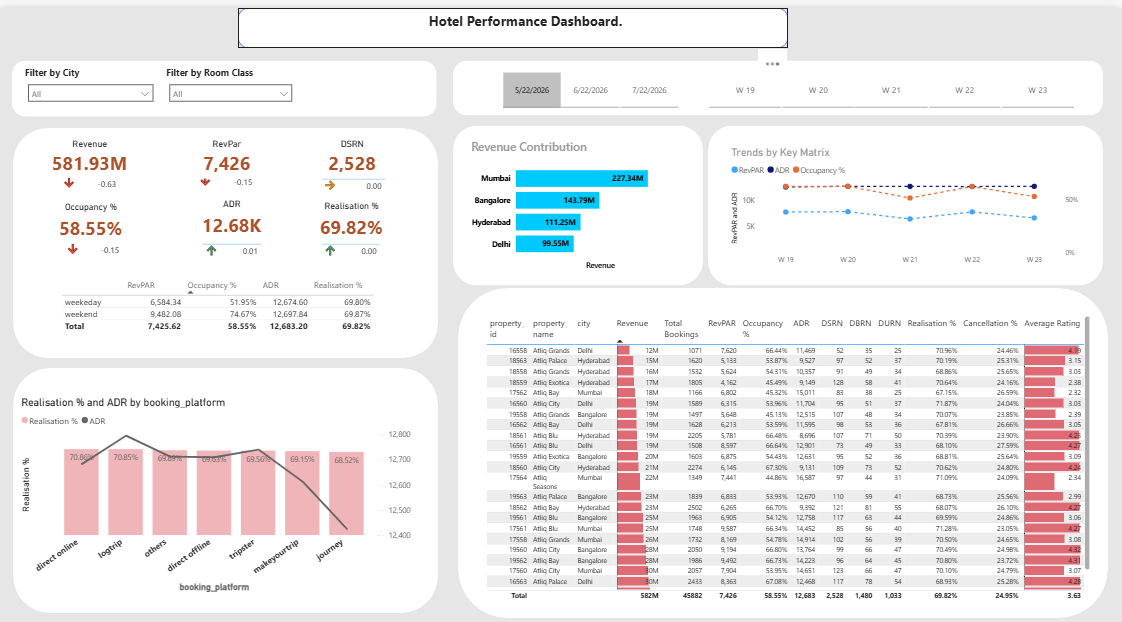

What the dashboard file says about the page in this screenshot:
{"tool":"powerbi","page":{"name":"Page 1","canvas":[1800,1100],"ordinal":0},"visuals":[{"type":"shape","box":[736,448,1040,528],"z":0},{"type":"shape","box":[24,576,680,392],"z":1000},{"type":"shape","box":[1136,187.3,632,256],"z":2000},{"type":"shape","box":[728,187.3,400,256],"z":3000},{"type":"shape","box":[24,192,680,368],"z":4000},{"type":"shape","box":[22.9,84.1,680,90],"z":5000},{"type":"tableEx","fields":{"Values":["dim_hotels.property_id","dim_hotels.property_name","dim_hotels.city","key_measures.Revenue","key_measures.Total Bookings","key_measures.RevPAR","key_measures.Occupancy %","key_measures.ADR","key_measures.DSRN","key_measures.DBRN","key_measures.DURN","key_measures.Realisation %"]},"box":[776,488,976,464],"z":6000},{"type":"slicer","title":"Filter by City","fields":{"Values":["dim_hotels.city"]},"box":[38.6,92.5,220,72.9],"z":7000},{"type":"slicer","title":"Filter by Room Class","fields":{"Values":["dim_rooms.room_class"]},"box":[264,92.9,216,72],"z":8000},{"type":"barChart","title":"Revenue Contribution","fields":{"Category":["dim_hotels.city"],"Y":["key_measures.Revenue"]},"box":[752,208,352,216],"z":9000},{"type":"tableEx","title":"Revenue","fields":{"Values":["key_measures.\"Revenue WoW change %"]},"box":[93.5,236.6,105,72.5],"z":10000},{"type":"card","title":"Revenue","fields":{"Values":["key_measures.Revenue"]},"box":[71,208,153.7,63.7],"z":11000},{"type":"tableEx","title":"Revenue","fields":{"Values":["key_measures.\"Revpar WoW change %"]},"box":[312.2,236.6,105,72.5],"z":12000},{"type":"card","title":"RevPar","fields":{"Values":["key_measures.RevPAR"]},"box":[290.8,208,152.5,65],"z":13000},{"type":"tableEx","title":"Revenue","fields":{"Values":["key_measures.\"DSRN WoW change %"]},"box":[512,240,112,80],"z":14000},{"type":"card","title":"DSRN","fields":{"Values":["key_measures.DSRN"]},"box":[489.4,208.4,153.7,64.7],"z":15000},{"type":"tableEx","title":"Revenue","fields":{"Values":["key_measures.\"Occupancy WoW change %"]},"box":[99.3,341.7,104.7,71.6],"z":16000},{"type":"card","title":"Occupancy %","fields":{"Values":["key_measures.Occupancy %"]},"box":[69.1,309.2,157.4,67.4],"z":17000},{"type":"tableEx","title":"Revenue","fields":{"Values":["key_measures.\"ADR WoW change %"]},"box":[512,344,104,72],"z":18000},{"type":"tableEx","title":"Revenue","fields":{"Values":["key_measures.\"Realisation WoW change %"]},"box":[322,344,104,72],"z":20000},{"type":"card","title":"ADR","fields":{"Values":["key_measures.ADR"]},"box":[302,304,144,72],"z":20500},{"type":"card","title":"Realisation %","fields":{"Values":["key_measures.Realisation %"]},"box":[488.6,308.8,155.3,68.9],"z":21000},{"type":"lineChart","title":"Trends by Key Matrix","fields":{"Category":["dim_date.mmm yy.Variation.Date Hierarchy.Month","dim_date.week no"],"Y":["key_measures.RevPAR","key_measures.ADR"],"Y2":["key_measures.Occupancy %"]},"box":[1168,219.3,568,200],"z":22000},{"type":"lineStackedColumnComboChart","fields":{"Category":["fact_bookings.booking_platform"],"Y":["key_measures.Realisation %"],"Y2":["key_measures.ADR"]},"box":[32,619.3,640,320],"z":23000},{"type":"tableEx","fields":{"Values":["dim_date.day_type","key_measures.RevPAR","key_measures.Occupancy %","key_measures.ADR","key_measures.Realisation %"]},"box":[96,427.3,512,128],"z":24000},{"type":"shape","box":[728,83.3,1040,88],"z":25000},{"type":"slicer","fields":{"Values":["dim_date.mmm yy"]},"box":[781.7,96.2,330,70],"z":26000},{"type":"slicer","fields":{"Values":["dim_date.week no"]},"box":[1111.7,96.2,633.3,70],"z":27000},{"type":"shape","box":[12.9,1005.7,1758.6,94.3],"z":28000},{"type":"shape","box":[384,0,880,64],"z":29000},{"type":"textbox","box":[684,0,432,48],"z":30000}]}

Visuals, with their boxes on the page's 1800x1100 design canvas (x1, y1, x2, y2). These are canvas units, not pixel positions in the 1122x622 screenshot, which may show the page scaled, cropped or inside an application window:
shape: bbox=[736, 448, 1776, 976]
shape: bbox=[24, 576, 704, 968]
shape: bbox=[1136, 187, 1768, 443]
shape: bbox=[728, 187, 1128, 443]
shape: bbox=[24, 192, 704, 560]
shape: bbox=[23, 84, 703, 174]
tableEx - dim_hotels.property_id x dim_hotels.property_name: bbox=[776, 488, 1752, 952]
"Filter by City" slicer: bbox=[39, 92, 259, 165]
"Filter by Room Class" slicer: bbox=[264, 93, 480, 165]
"Revenue Contribution" barChart: bbox=[752, 208, 1104, 424]
"Revenue" tableEx: bbox=[94, 237, 198, 309]
"Revenue" card: bbox=[71, 208, 225, 272]
"Revenue" tableEx: bbox=[312, 237, 417, 309]
"RevPar" card: bbox=[291, 208, 443, 273]
"Revenue" tableEx: bbox=[512, 240, 624, 320]
"DSRN" card: bbox=[489, 208, 643, 273]
"Revenue" tableEx: bbox=[99, 342, 204, 413]
"Occupancy %" card: bbox=[69, 309, 226, 377]
"Revenue" tableEx: bbox=[512, 344, 616, 416]
"Revenue" tableEx: bbox=[322, 344, 426, 416]
"ADR" card: bbox=[302, 304, 446, 376]
"Realisation %" card: bbox=[489, 309, 644, 378]
"Trends by Key Matrix" lineChart: bbox=[1168, 219, 1736, 419]
lineStackedColumnComboChart - fact_bookings.booking_platform x key_measures.Realisation %: bbox=[32, 619, 672, 939]
tableEx - dim_date.day_type x key_measures.RevPAR: bbox=[96, 427, 608, 555]
shape: bbox=[728, 83, 1768, 171]
slicer - dim_date.mmm yy: bbox=[782, 96, 1112, 166]
slicer - dim_date.week no: bbox=[1112, 96, 1745, 166]
shape: bbox=[13, 1006, 1772, 1100]
shape: bbox=[384, 0, 1264, 64]
textbox: bbox=[684, 0, 1116, 48]
